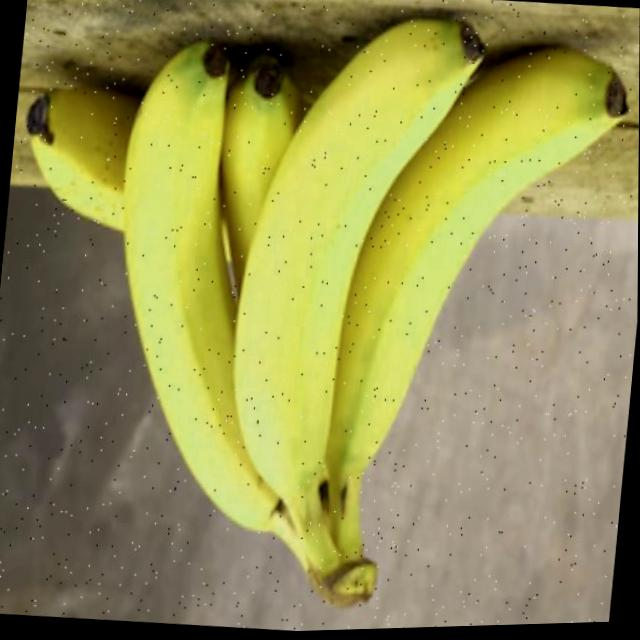Banana: (86, 0, 633, 628), (20, 78, 247, 255)
